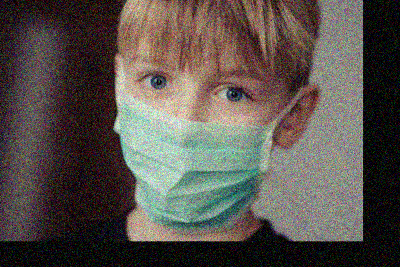with_mask: (117, 52, 276, 221)
